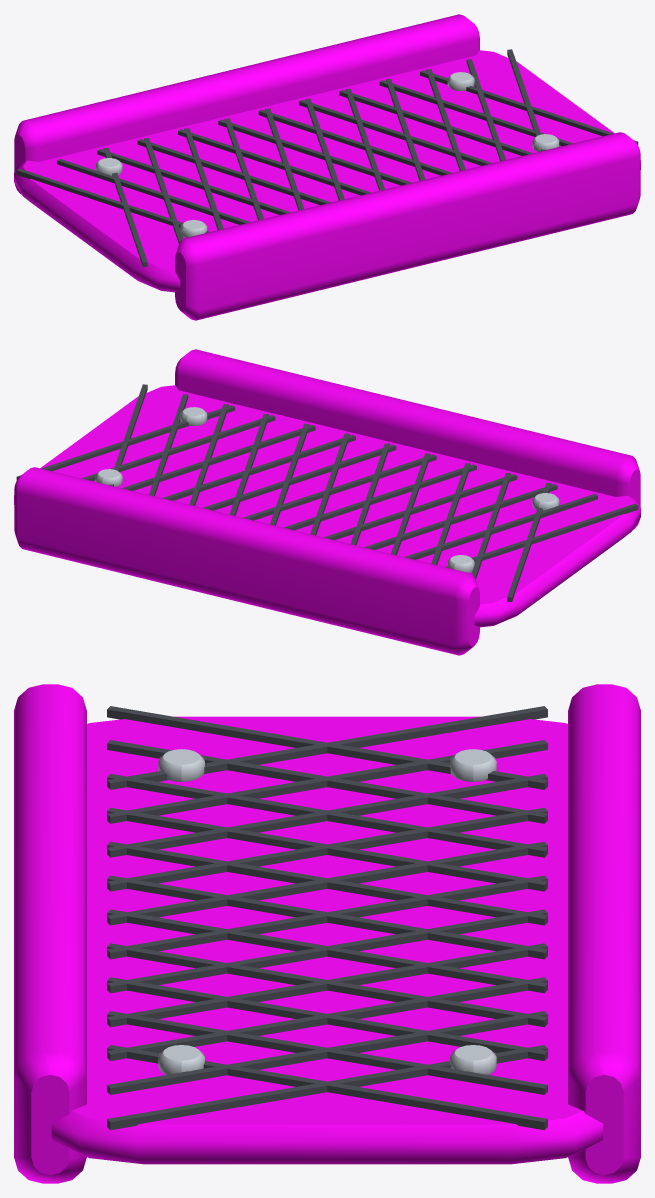
Rendered from objet_chassis_composite.glb.
The picture shows the model from 3 angles, top to bottom: view 1: azimuth 30°, elevation 25°; view 2: azimuth 150°, elevation 25°; view 3: azimuth 270°, elevation 25°; orthographic projection. The views are drawn at different scales.
Parts seen in each view (by area): view 1: chassis_teinte.008, chassis_trame.002, chassis_boulon.004; view 2: chassis_teinte.008, chassis_trame.002, chassis_boulon.004; view 3: chassis_teinte.008, chassis_trame.002, chassis_boulon.004.
Part boxes in pixels (x1=…): chassis_teinte.008: x1=14, y1=14, x2=640, y2=320; chassis_trame.002: x1=16, y1=49, x2=638, y2=266; chassis_boulon.004: x1=95, y1=72, x2=559, y2=237; chassis_teinte.008: x1=14, y1=349, x2=640, y2=655; chassis_trame.002: x1=16, y1=384, x2=638, y2=601; chassis_boulon.004: x1=95, y1=407, x2=559, y2=572; chassis_teinte.008: x1=14, y1=684, x2=640, y2=1183; chassis_trame.002: x1=107, y1=706, x2=547, y2=1130; chassis_boulon.004: x1=158, y1=749, x2=496, y2=1074.
Size of the model in its own units: 0.34 by 0.05 by 0.215.
